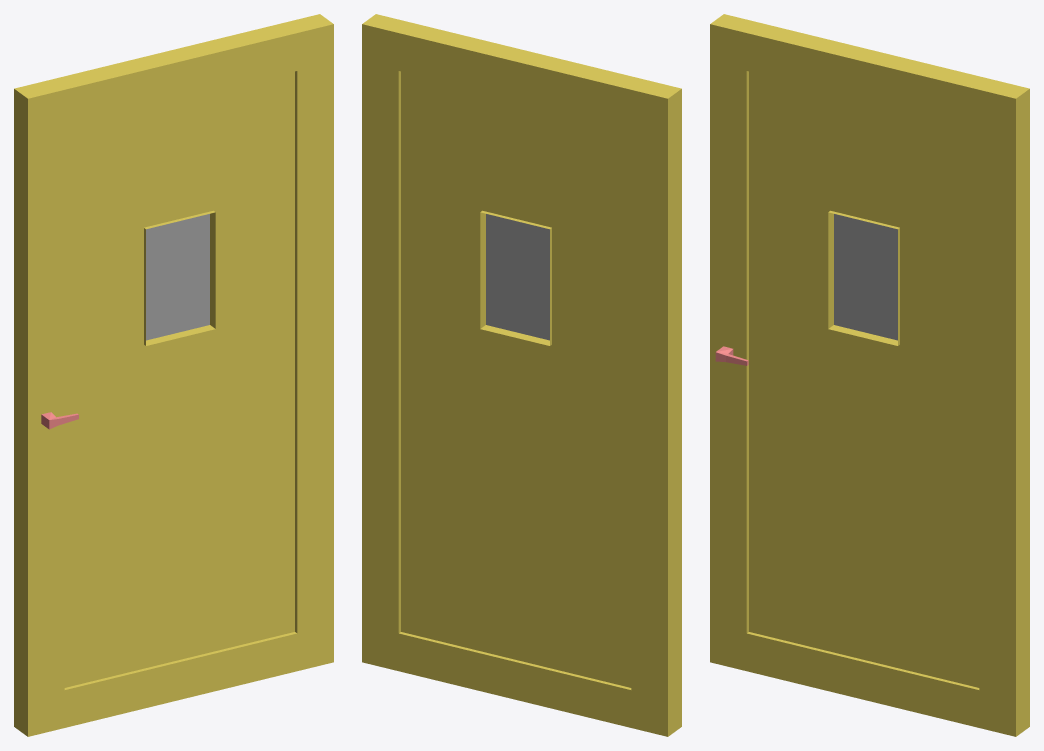
Rendered from Door2.FBX.
3 views of the same model, side by side, from view 1: azimuth 30°, elevation 25°; view 2: azimuth 150°, elevation 25°; view 3: azimuth 330°, elevation 25° (orthographic).
Visible parts, largest first — view 1: Door02; view 2: Door02; view 3: Door02.
Part boxes in pixels (x1,y1,x2,y2): Door02: (14, 14, 333, 736); Door02: (362, 14, 681, 736); Door02: (710, 14, 1029, 736).
Size of the model in its own units: 40.75 by 81.24 by 5.02.
